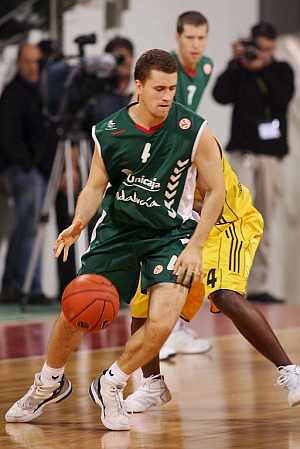basketball: (60, 274, 121, 332)
